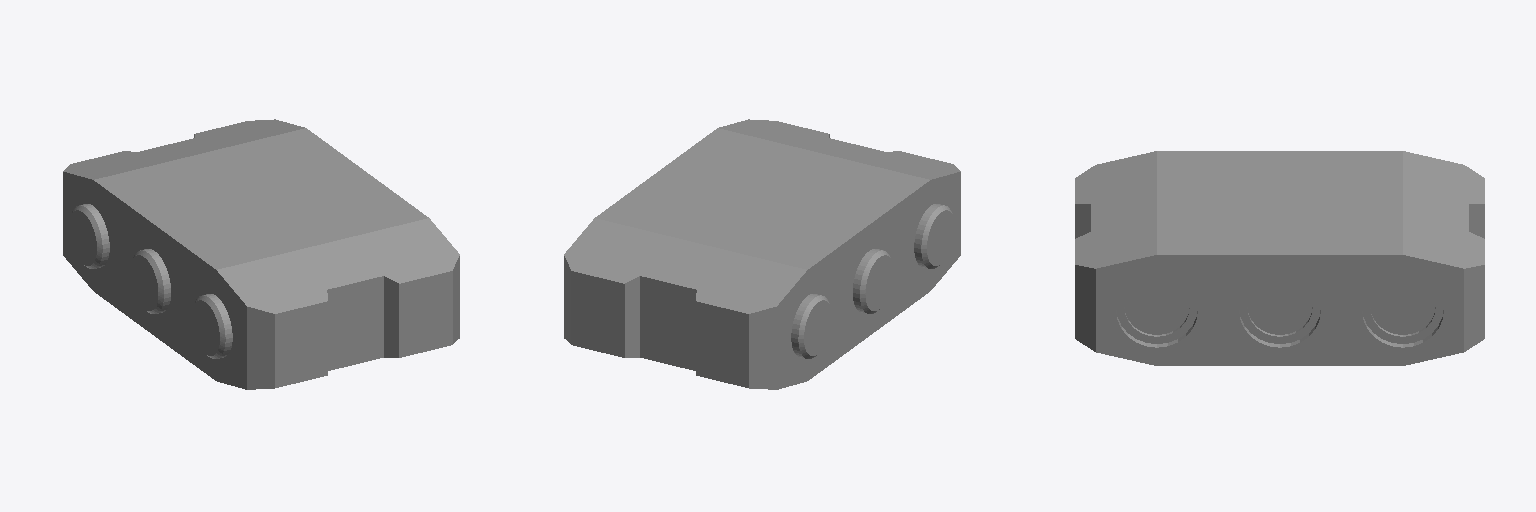
File: Distoray3.obj
The picture shows the model from 3 angles: view 1: azimuth 30°, elevation 25°; view 2: azimuth 150°, elevation 25°; view 3: azimuth 270°, elevation 25°; orthographic projection.
Visible parts, largest first — view 1: Body4; view 2: Body4; view 3: Body4.
Boxes of the visible parts, <box> form: Body4: <box>63,119,459,389</box>; Body4: <box>564,119,960,389</box>; Body4: <box>1075,151,1484,365</box>.
Size of the model in its own units: 1.26 by 0.6001 by 2.